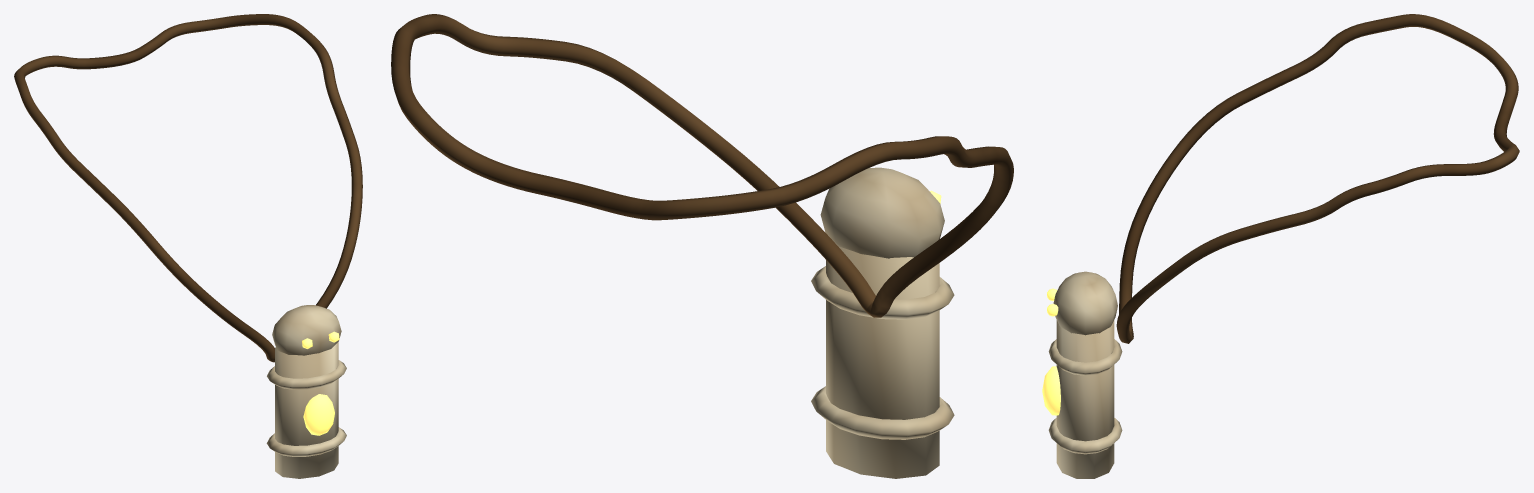
File: ember_totem.glb
The picture shows the model from 3 angles, left to right: view 1: azimuth 30°, elevation 25°; view 2: azimuth 150°, elevation 25°; view 3: azimuth 270°, elevation 25°; orthographic projection. The views are drawn at different scales.
Visible parts, largest first — view 1: ember_totem, ember_totem_fire; view 2: ember_totem; view 3: ember_totem, ember_totem_fire.
Boxes of the visible parts, box(x1,y1,x2,y2) form: ember_totem: box(14, 14, 362, 478); ember_totem_fire: box(302, 331, 339, 435); ember_totem: box(391, 14, 1013, 478); ember_totem: box(1048, 14, 1519, 478); ember_totem_fire: box(1042, 288, 1060, 415).
Size of the model in its own units: 0.1087 by 0.1122 by 0.1322.
